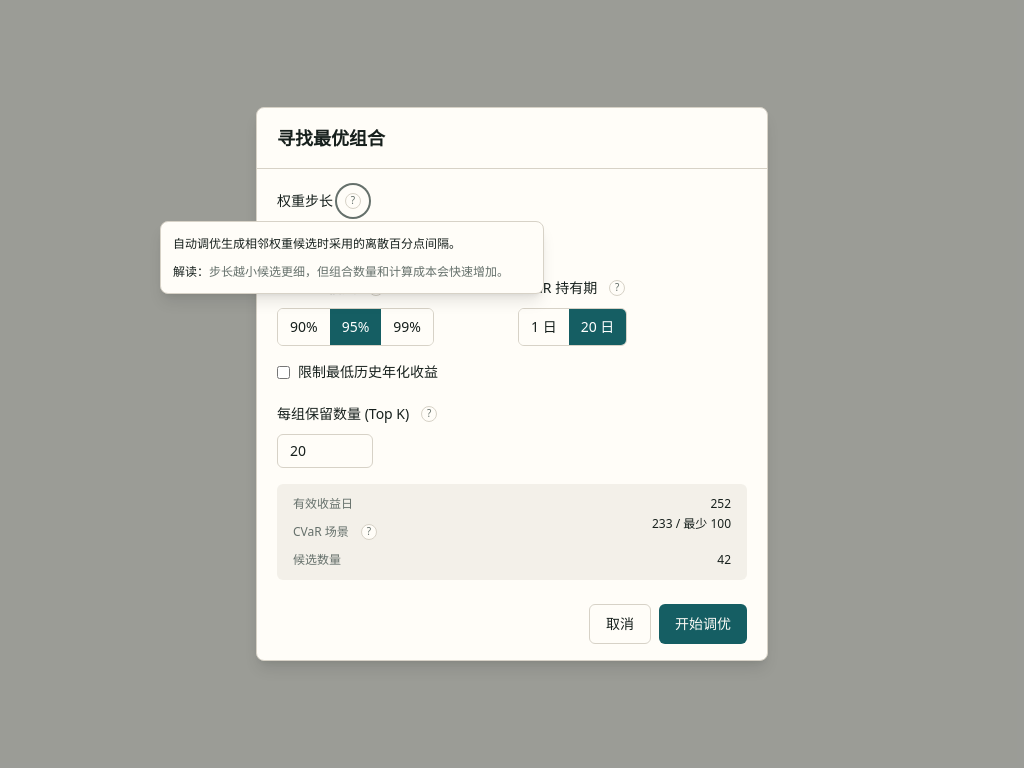
Test: OptimizationConfigDialog › keeps the previous readiness summary visible while a new spec loads
expect the text "233 / 最少 100" is shown: met, box 652,515 -> 731,532
Step 1. Click the button "99%" → coordinates (407, 327), box 381,309 -> 433,345
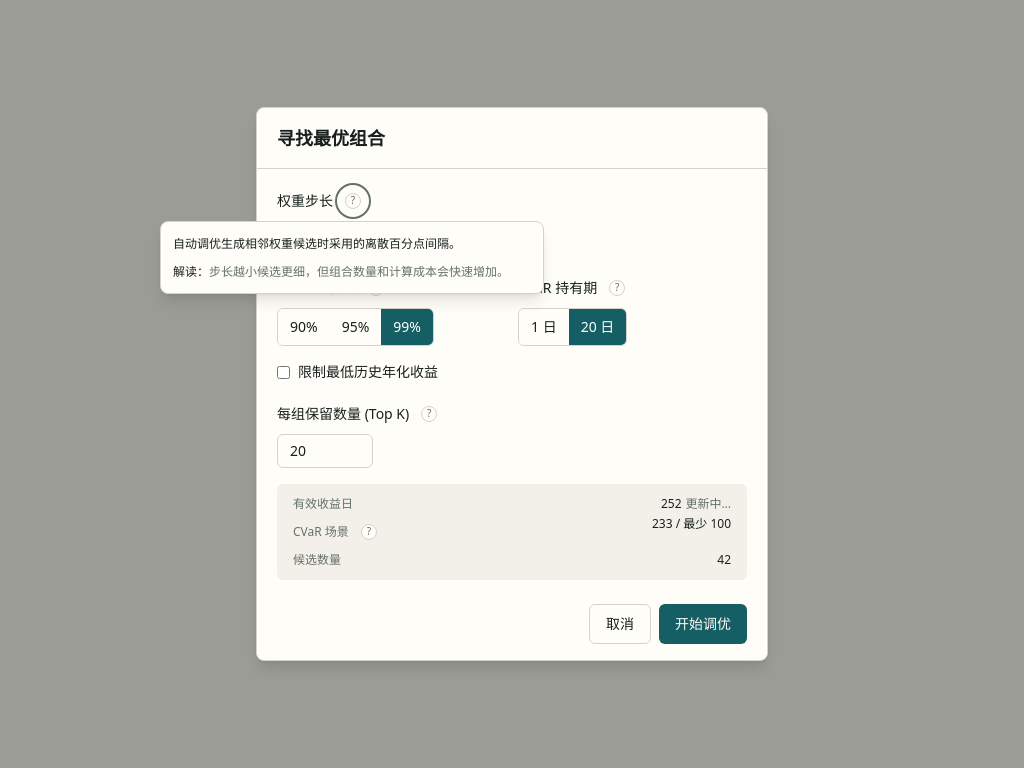
expect the text "233 / 最少 100" is shown: met, box 652,515 -> 731,532
expect the text "更新中…" is shown: met, box 686,495 -> 731,512
